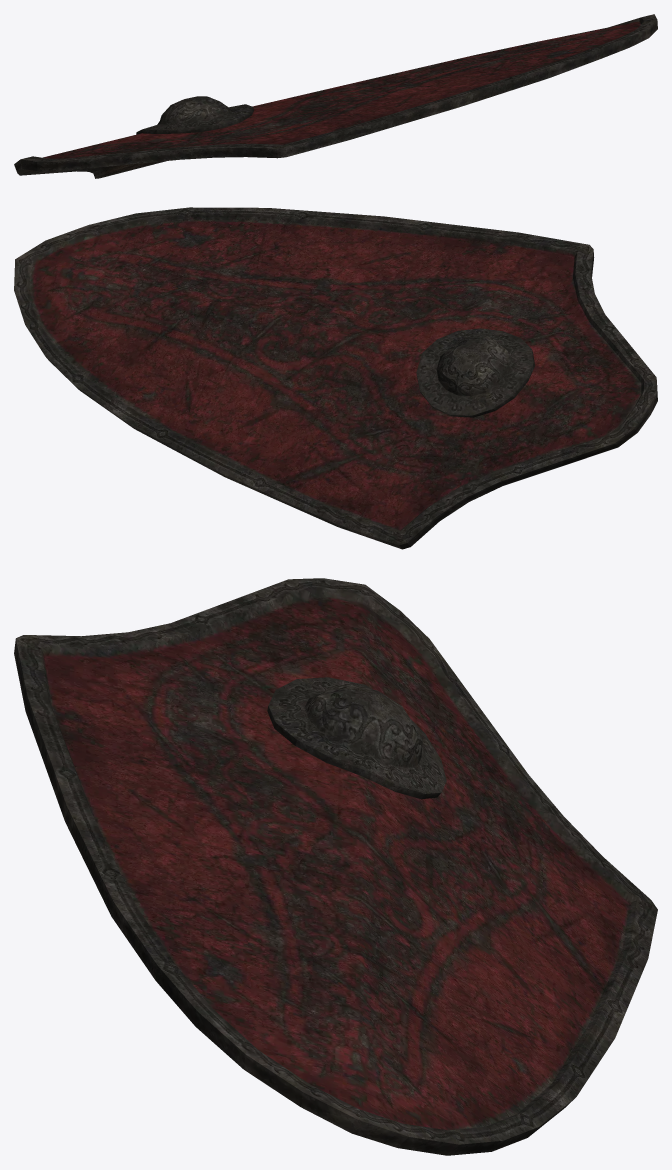
The model's file is ITSH_SHIELD_A_LONG.glb.
The picture shows the model from 3 angles, top to bottom: view 1: azimuth 30°, elevation 25°; view 2: azimuth 150°, elevation 25°; view 3: azimuth 270°, elevation 25°; orthographic projection. The views are drawn at different scales.
Visible parts, largest first — view 1: ITSH_SHIELD_A_LONG; view 2: ITSH_SHIELD_A_LONG; view 3: ITSH_SHIELD_A_LONG.
Part boxes in pixels (x1=…): ITSH_SHIELD_A_LONG: x1=14, y1=14, x2=657, y2=178; ITSH_SHIELD_A_LONG: x1=14, y1=207, x2=657, y2=549; ITSH_SHIELD_A_LONG: x1=14, y1=578, x2=657, y2=1155.
Size of the model in its own units: 0.9927 by 0.2503 by 0.5171.
Materials: 1 (1 with a texture image).
